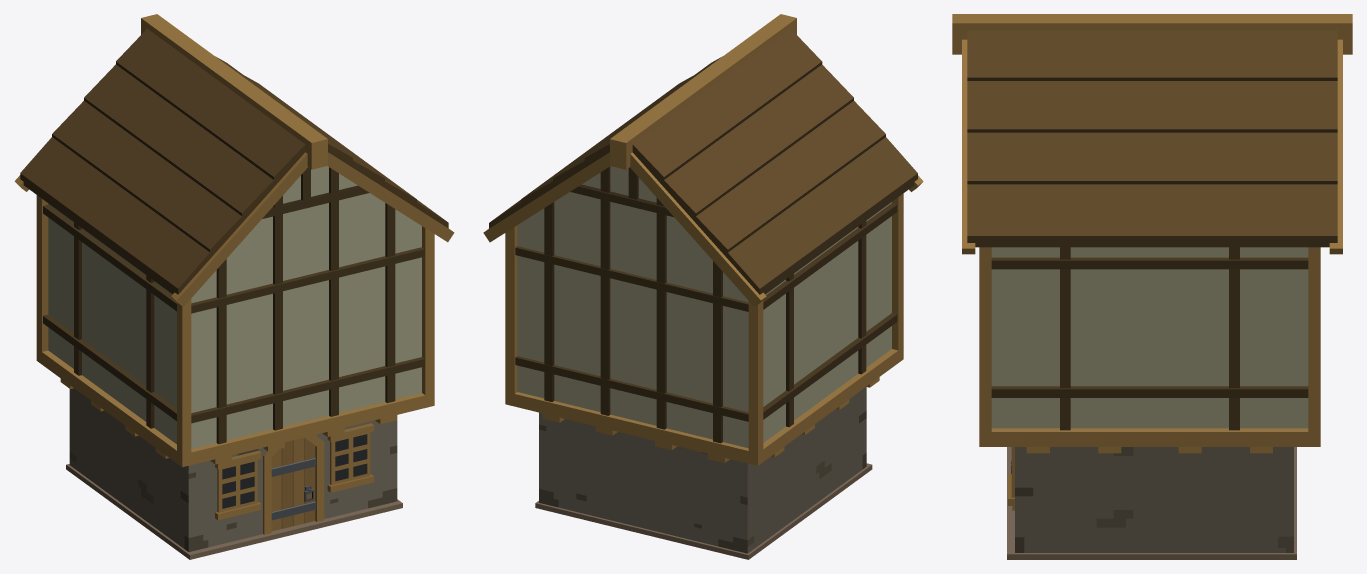
Rendered from SF_Bld_House_Large_Blank_01.fbx.
The picture shows the model from 3 angles, left to right: view 1: azimuth 30°, elevation 25°; view 2: azimuth 150°, elevation 25°; view 3: azimuth 270°, elevation 25°; orthographic projection. The views are drawn at different scales.
Visible parts, largest first — view 1: SF_Bld_House_Large_Blank_01; view 2: SF_Bld_House_Large_Blank_01; view 3: SF_Bld_House_Large_Blank_01.
Boxes of the visible parts, bbox=[...] form: SF_Bld_House_Large_Blank_01: bbox=[14, 14, 454, 559]; SF_Bld_House_Large_Blank_01: bbox=[483, 14, 923, 559]; SF_Bld_House_Large_Blank_01: bbox=[952, 14, 1352, 559].
Bounding box in the file's own units: 12.24 × 17.27 × 13.04.
